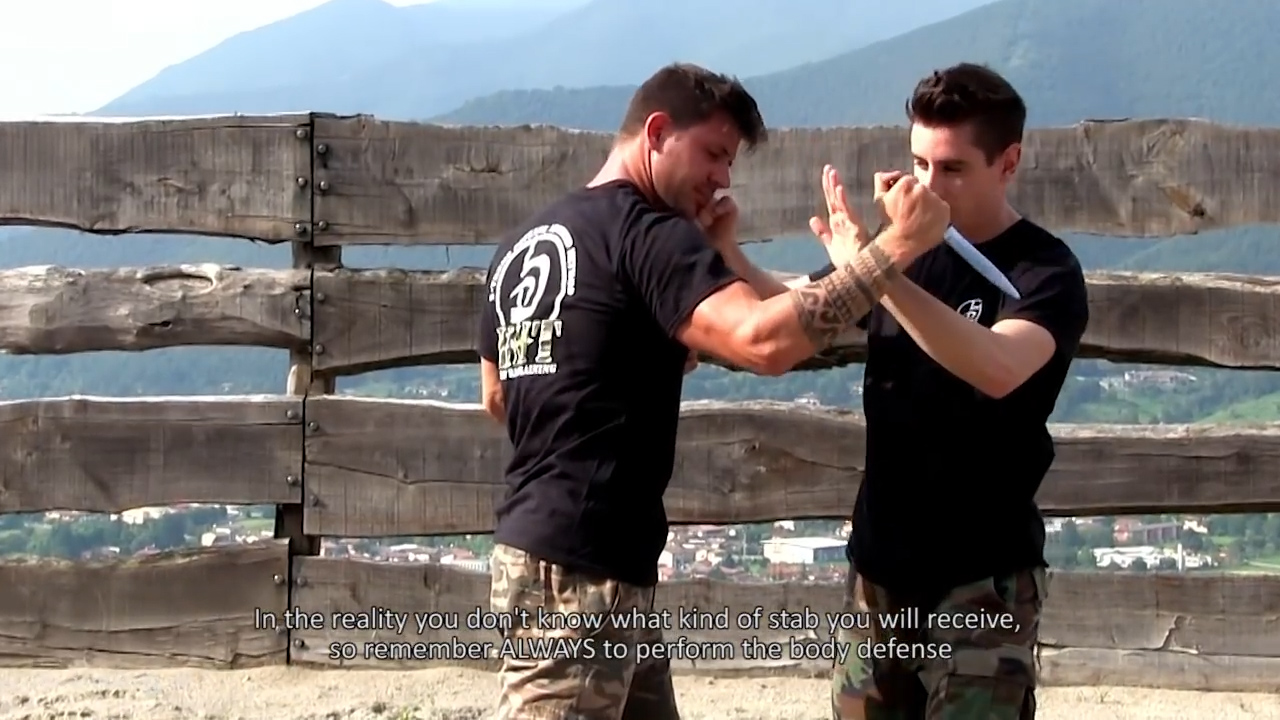knife: (872, 166, 1026, 304)
